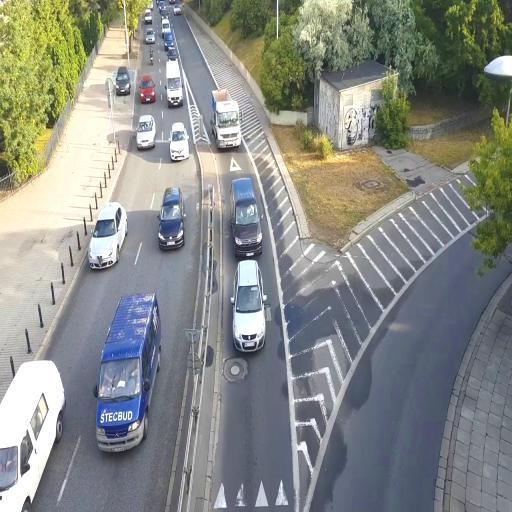vehicle: (94, 292, 162, 453), (0, 357, 66, 511), (0, 358, 66, 510), (232, 258, 266, 354), (87, 202, 128, 271), (231, 174, 263, 262), (212, 88, 242, 151), (158, 187, 186, 251), (169, 122, 190, 162), (136, 116, 156, 150), (138, 74, 156, 104), (114, 68, 131, 95)
